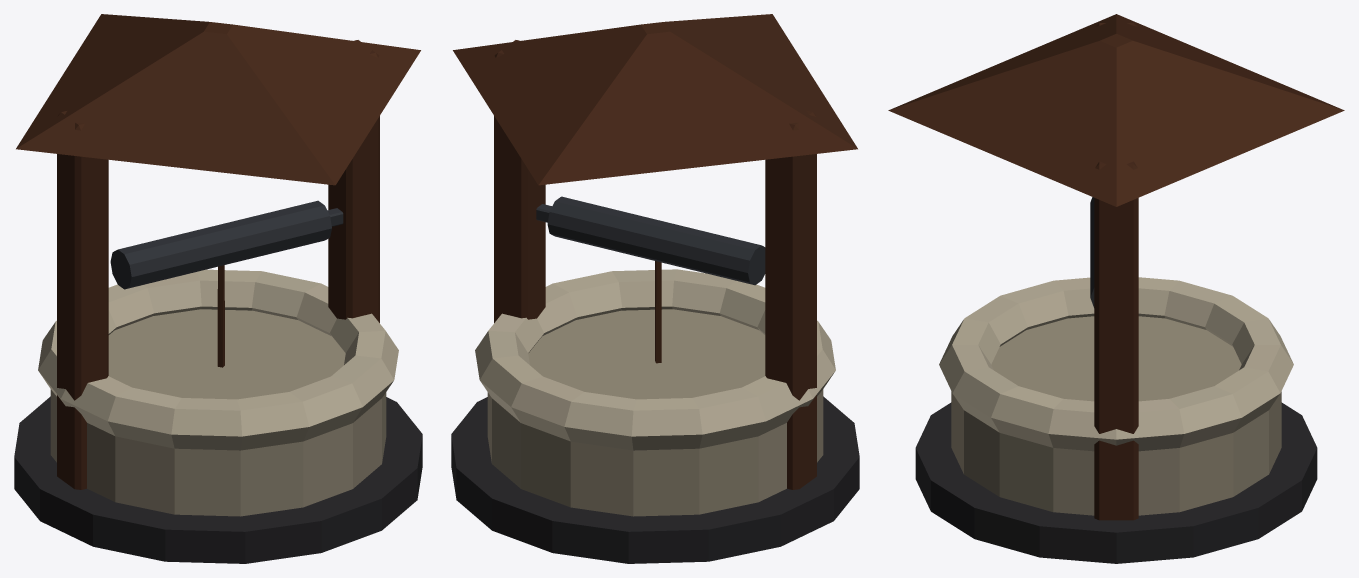
The picture shows the model from 3 angles, left to right: view 1: azimuth 30°, elevation 25°; view 2: azimuth 150°, elevation 25°; view 3: azimuth 270°, elevation 25°; orthographic projection. The views are drawn at different scales.
Visible parts, largest first — view 1: WK_InnerKeep_CivicWell_Canopied_LOD0_High; view 2: WK_InnerKeep_CivicWell_Canopied_LOD0_High; view 3: WK_InnerKeep_CivicWell_Canopied_LOD0_High.
Part boxes in pixels (x1=…): WK_InnerKeep_CivicWell_Canopied_LOD0_High: x1=14, y1=14, x2=422, y2=563; WK_InnerKeep_CivicWell_Canopied_LOD0_High: x1=451, y1=14, x2=859, y2=563; WK_InnerKeep_CivicWell_Canopied_LOD0_High: x1=888, y1=14, x2=1344, y2=563.
Bounding box in the file's own units: 3.4 × 3.6 × 3.4.
